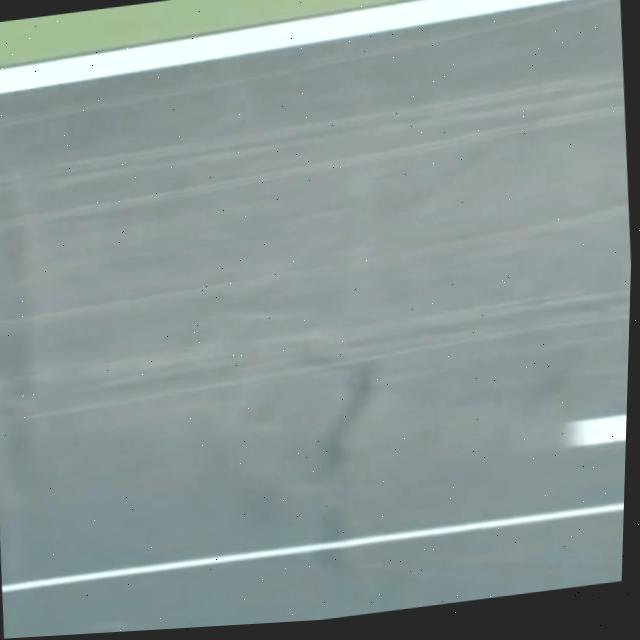center: (564, 413, 627, 447)
